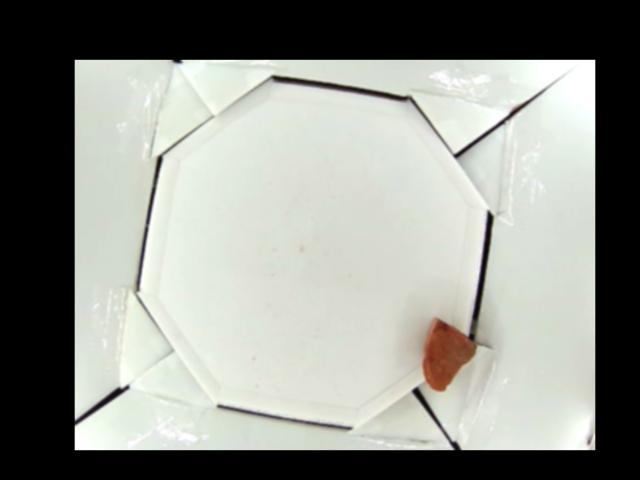Brisk: (420, 319, 479, 394)
